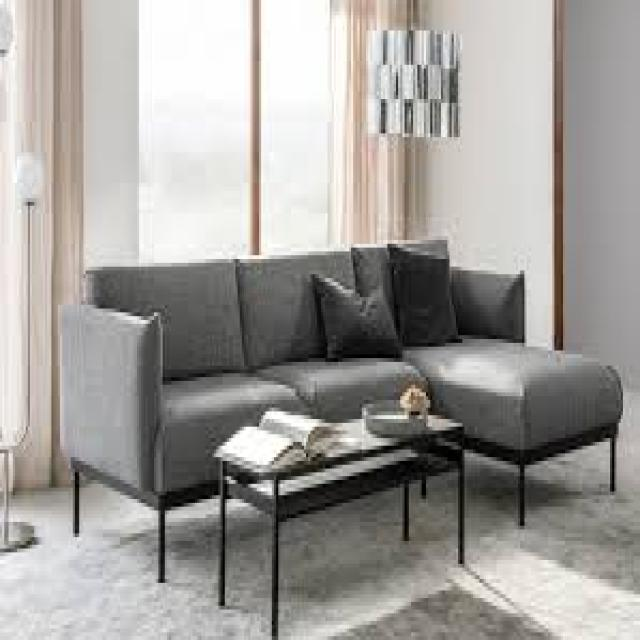Lamp: (0, 8, 42, 548), (359, 21, 478, 146)
Sofa: (54, 230, 453, 484), (390, 209, 635, 522)
Table: (199, 388, 476, 606)
